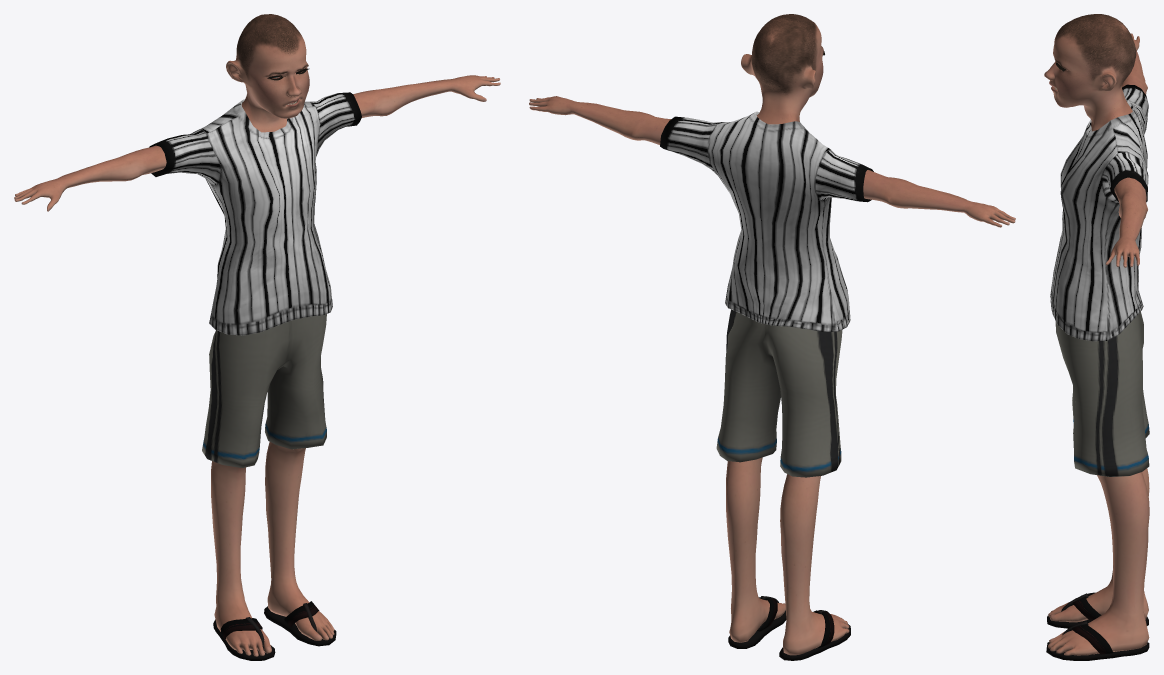
File: Anderson.obj
The picture shows the model from 3 angles, left to right: view 1: azimuth 30°, elevation 25°; view 2: azimuth 150°, elevation 25°; view 3: azimuth 270°, elevation 25°; orthographic projection.
Parts seen in each view (by area): view 1: Tops, Body, Bottoms, Shoes; view 2: Tops, Body, Bottoms, Shoes; view 3: Body, Tops, Bottoms, Shoes.
Boxes of the visible parts, <box> form: Tops: <box>149,92,361,335</box>; Body: <box>14,14,500,656</box>; Bottoms: <box>202,314,326,467</box>; Shoes: <box>213,601,336,660</box>; Tops: <box>660,111,873,331</box>; Body: <box>529,14,1015,655</box>; Bottoms: <box>716,309,842,477</box>; Shoes: <box>728,596,850,660</box>; Body: <box>1044,14,1149,655</box>; Tops: <box>1050,84,1148,341</box>; Bottoms: <box>1055,311,1149,476</box>; Shoes: <box>1046,592,1149,660</box>.
Size of the model in its own units: 128 by 155 by 23.96.
1 material, 1 textured.
